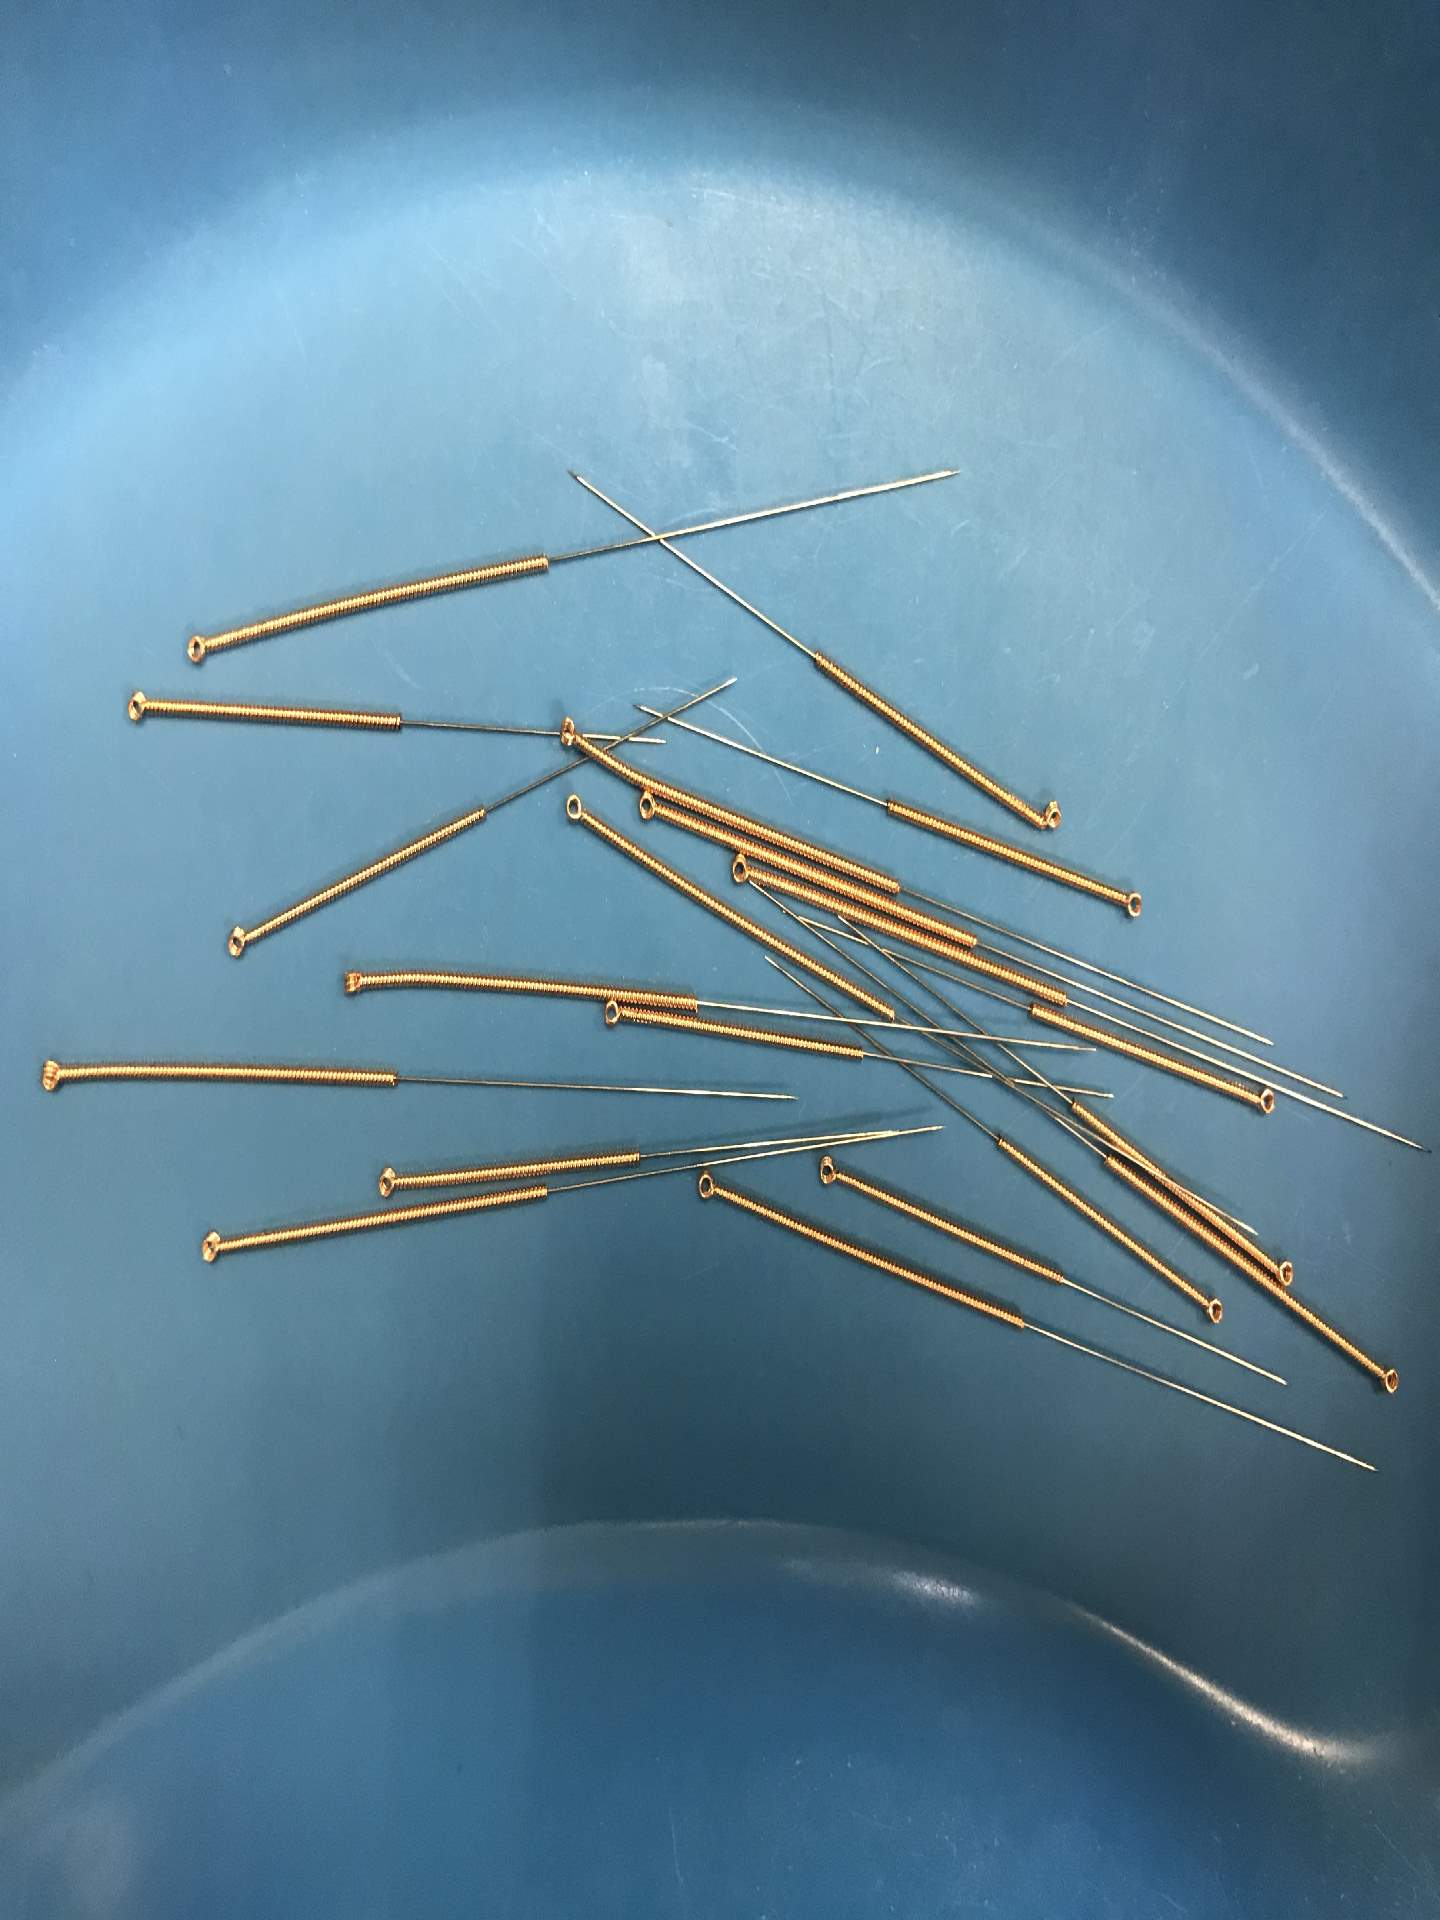needle: (26, 1049, 77, 1104), (1110, 875, 1153, 928), (177, 624, 221, 674), (118, 680, 159, 732), (191, 1225, 234, 1271), (808, 1147, 852, 1193), (334, 958, 377, 1005), (1367, 1355, 1410, 1401), (1193, 1287, 1233, 1333), (369, 1158, 410, 1202), (1242, 1079, 1283, 1123), (555, 788, 594, 831), (594, 995, 635, 1036), (1035, 792, 1068, 842), (218, 921, 256, 965), (554, 711, 588, 757), (688, 1166, 728, 1206), (629, 788, 667, 830), (723, 850, 761, 892), (1271, 1253, 1299, 1290)
